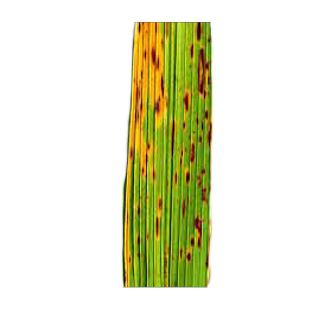Bercak-Cokelat-Sempit: (132, 74, 173, 123), (196, 50, 214, 97), (131, 146, 163, 172), (173, 86, 194, 119), (152, 199, 165, 244), (178, 164, 200, 187), (191, 215, 205, 249), (176, 244, 194, 270), (170, 197, 191, 219), (160, 250, 172, 286), (148, 48, 164, 70), (193, 22, 208, 40), (187, 137, 199, 158), (184, 41, 198, 58), (134, 22, 149, 37), (198, 187, 211, 202)
